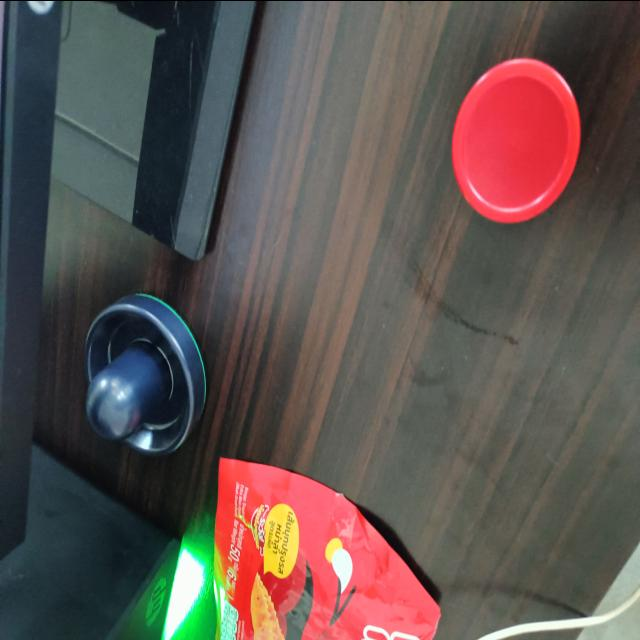chip: (449, 54, 582, 224)
